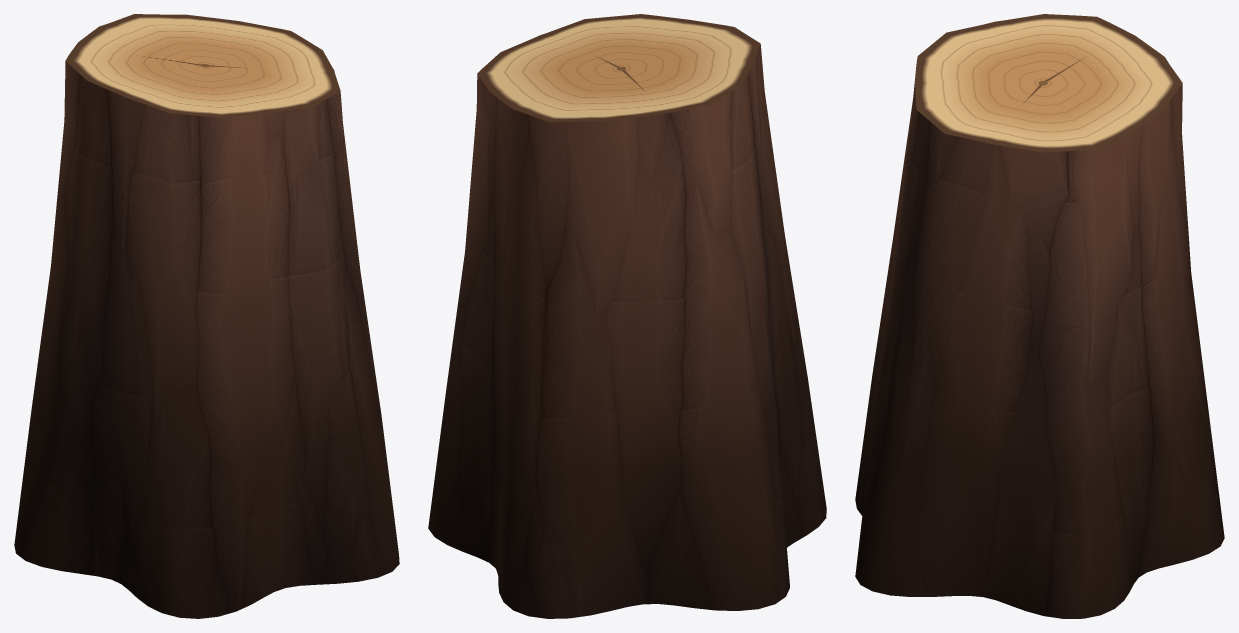
The model's file is Stump_Pine_3.gltf.
3 views of the same model, side by side, from view 1: azimuth 30°, elevation 25°; view 2: azimuth 150°, elevation 25°; view 3: azimuth 270°, elevation 25° (orthographic). The views are drawn at different scales.
Visible parts, largest first — view 1: Stump_Pine_3; view 2: Stump_Pine_3; view 3: Stump_Pine_3.
Boxes of the visible parts, left/top/right/bottom form: Stump_Pine_3: left=14, top=14, right=399, bottom=618; Stump_Pine_3: left=428, top=14, right=826, bottom=618; Stump_Pine_3: left=855, top=14, right=1224, bottom=618.
Bounding box in the file's own units: 0.5195 × 0.7039 × 0.5027.
2 materials, 2 textured.
